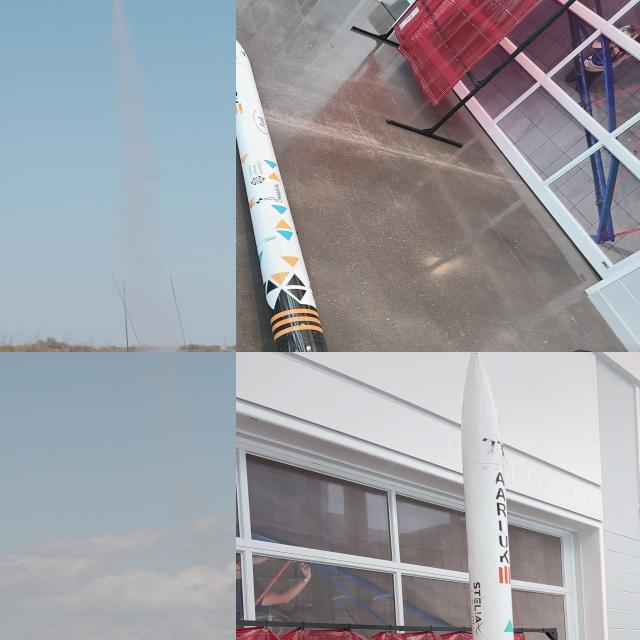Rocket: (236, 39, 329, 352), (461, 352, 514, 640)
